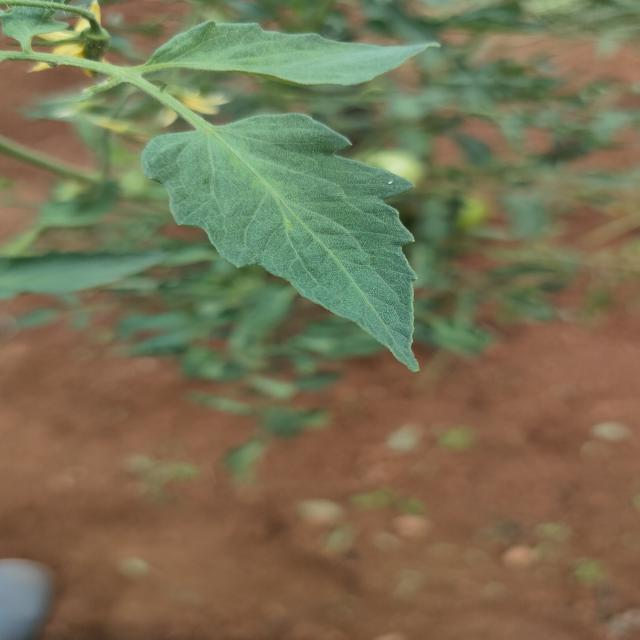tomato_healthy: (145, 109, 420, 376), (139, 19, 440, 86)
